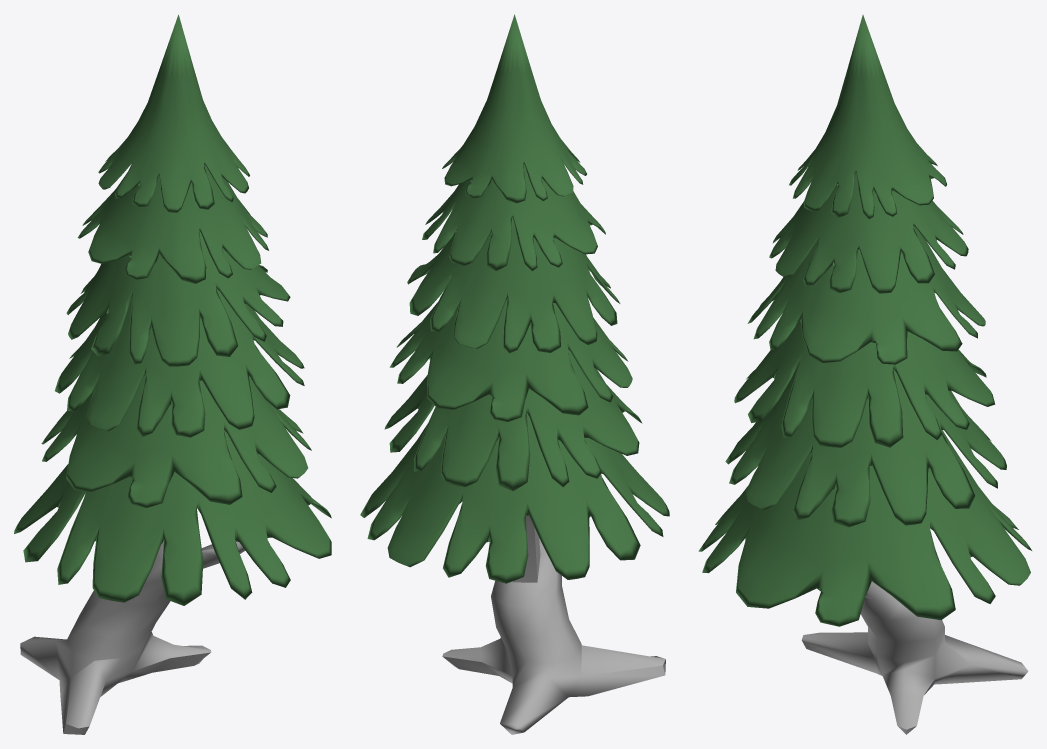
The model's file is agac2.fbx.
The picture shows the model from 3 angles, left to right: view 1: azimuth 30°, elevation 25°; view 2: azimuth 150°, elevation 25°; view 3: azimuth 270°, elevation 25°; orthographic projection. The views are drawn at different scales.
Visible parts, largest first — view 1: cam1_pCube1; view 2: cam1_pCube1; view 3: cam1_pCube1.
Boxes of the visible parts, x1,y1,x2,y2 form: cam1_pCube1: (14, 14, 331, 734); cam1_pCube1: (360, 14, 669, 734); cam1_pCube1: (698, 15, 1031, 734).
Size of the model in its own units: 4.29 by 10.06 by 4.34.
